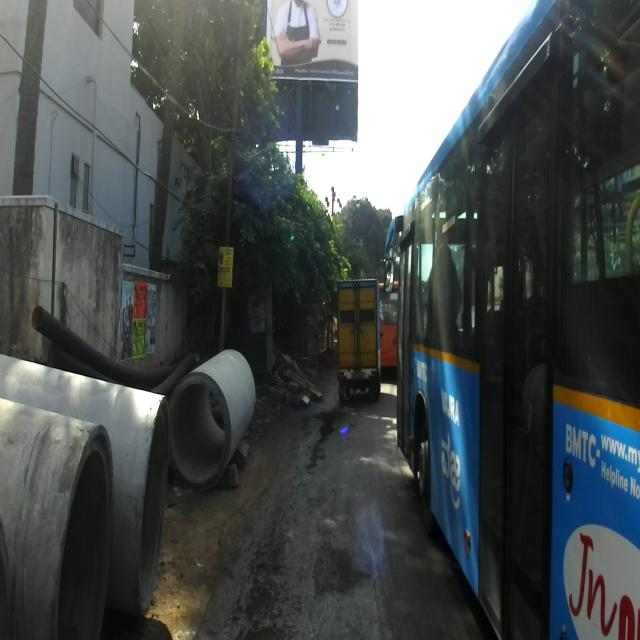bus: (384, 0, 639, 639)
truck: (334, 275, 382, 398)
